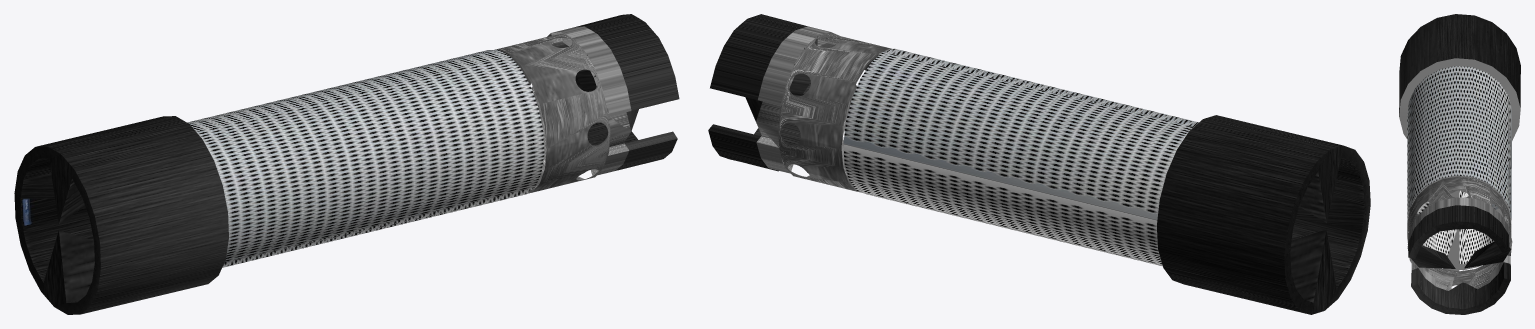
File: barrel_widener.fbx
3 views of the same model, side by side, from view 1: azimuth 30°, elevation 25°; view 2: azimuth 150°, elevation 25°; view 3: azimuth 270°, elevation 25° (orthographic). The views are drawn at different scales.
Visible parts, largest first — view 1: polySurface5; view 2: polySurface5; view 3: polySurface5.
Boxes of the visible parts, x1=… form: polySurface5: x1=14, y1=14, x2=679, y2=314; polySurface5: x1=708, y1=14, x2=1370, y2=314; polySurface5: x1=1399, y1=14, x2=1520, y2=314.
Bounding box in the file's own units: 27.23 × 7 × 6.99.
